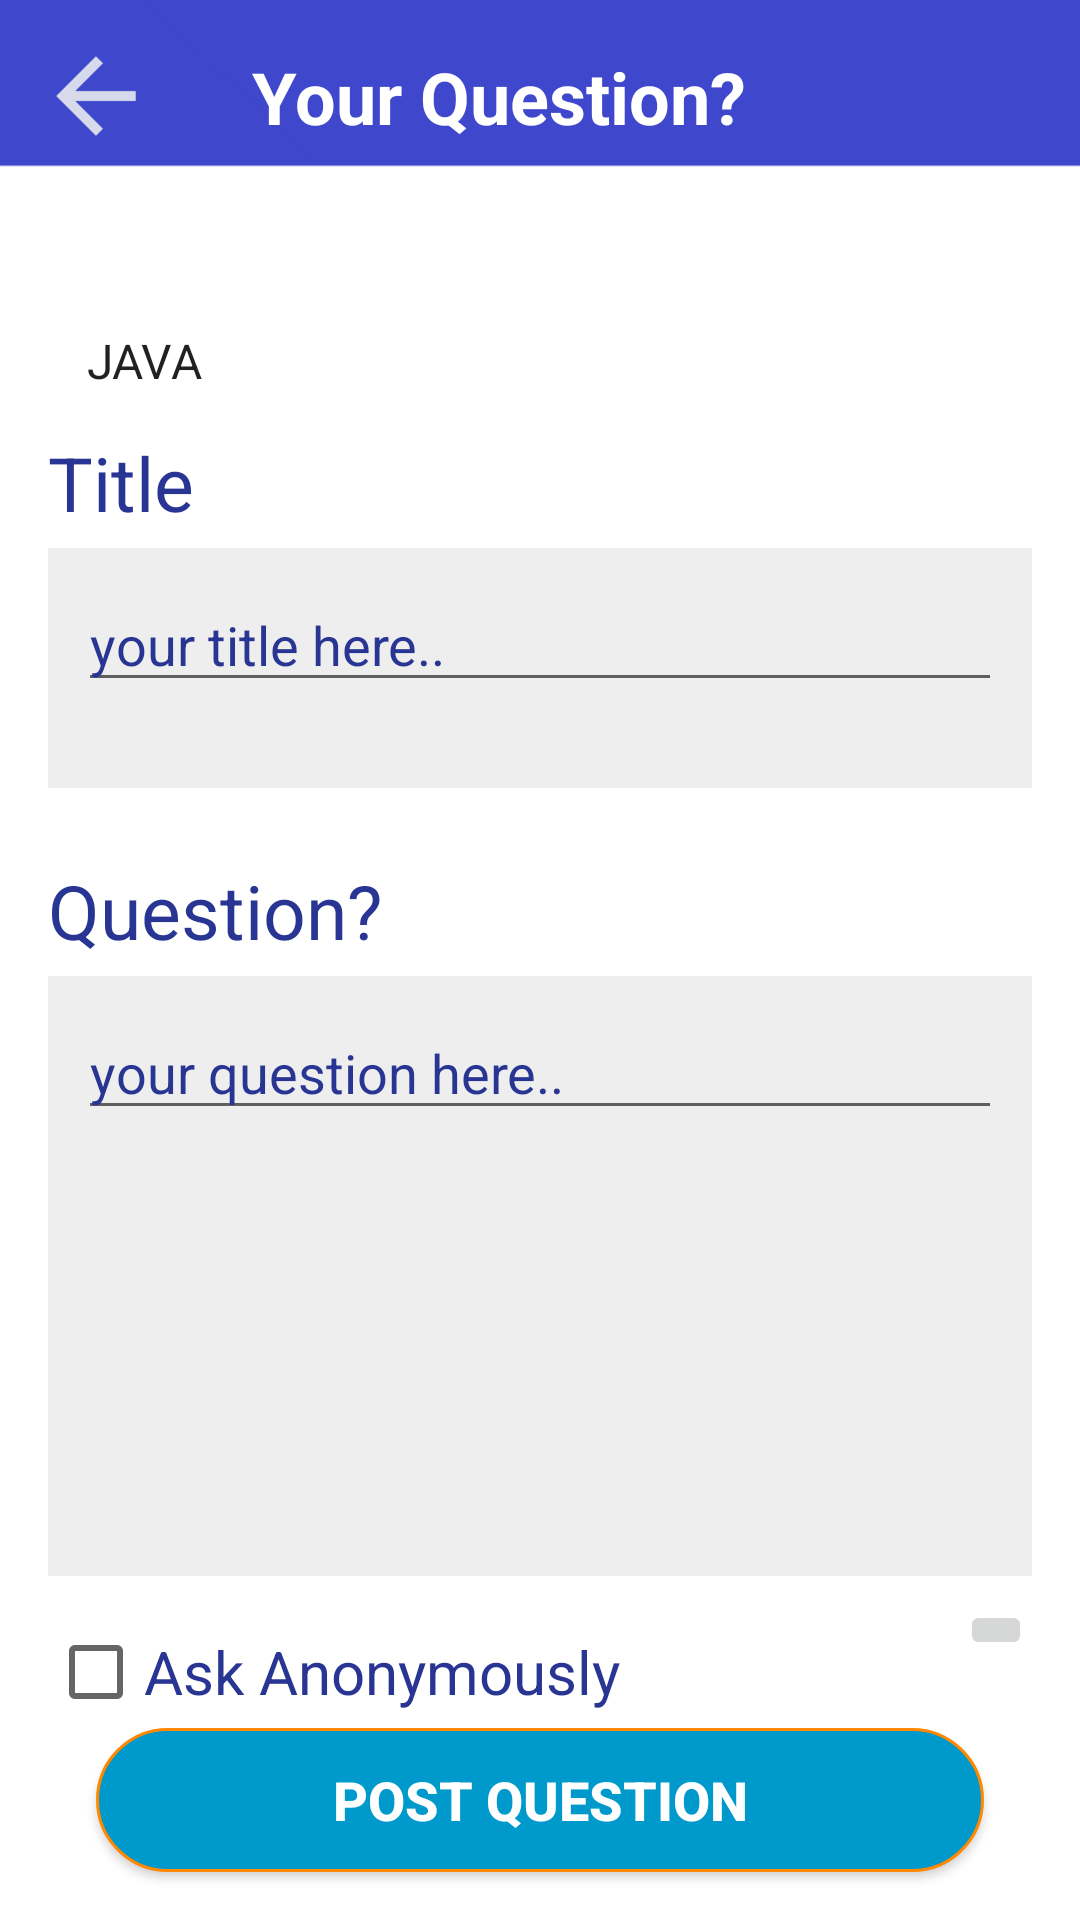

Screen size 1080 × 1920. Icon name, then its box in pixels as (x1, y1, x2, y2):
back arrow: (56, 56, 136, 136)
